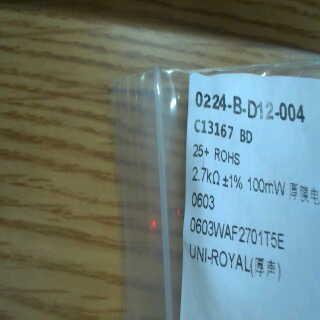2.7kR: (190, 163, 222, 188)
